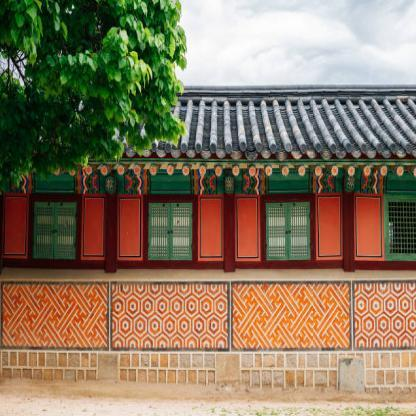Building Outline: (0, 84, 416, 396)
Facade: (0, 159, 416, 382)
Ground Floor: (0, 165, 416, 396)
Roof: (0, 84, 416, 165)
Window: (266, 202, 311, 261), (148, 202, 193, 260), (33, 202, 77, 260), (383, 195, 416, 261)
